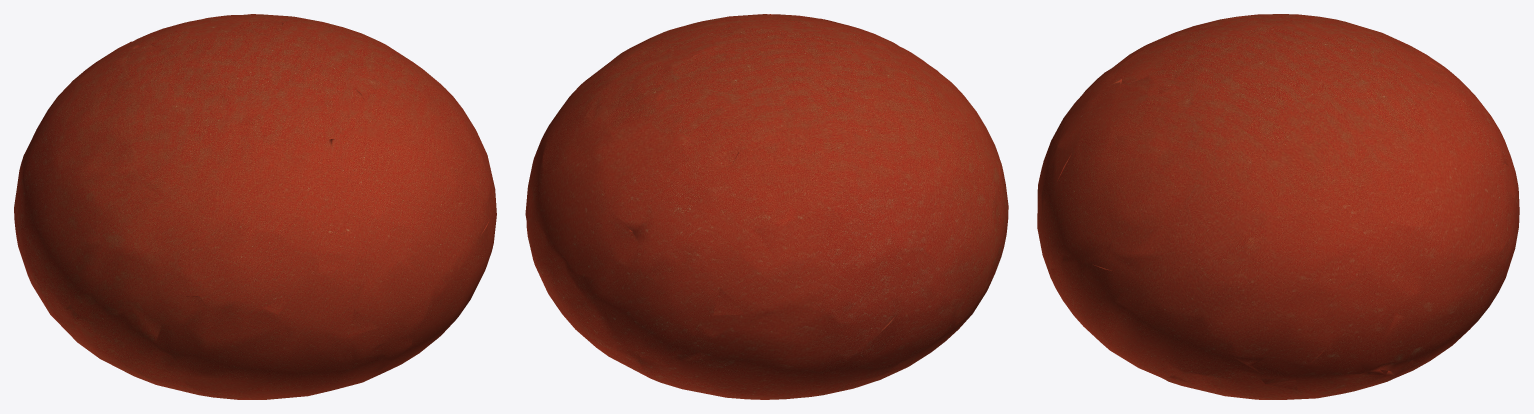
Rendered from Jasper.fbx.
3 views of the same model, side by side, from view 1: azimuth 30°, elevation 25°; view 2: azimuth 150°, elevation 25°; view 3: azimuth 270°, elevation 25° (orthographic).
Parts seen in each view (by area): view 1: Mesh_0; view 2: Mesh_0; view 3: Mesh_0.
Part boxes in pixels (box(x1,y1,x2,y2)): Mesh_0: box(14, 14, 496, 399); Mesh_0: box(525, 14, 1008, 399); Mesh_0: box(1037, 14, 1519, 399).
Size of the model in its own units: 190 by 140 by 190.
1 material, 1 textured.
